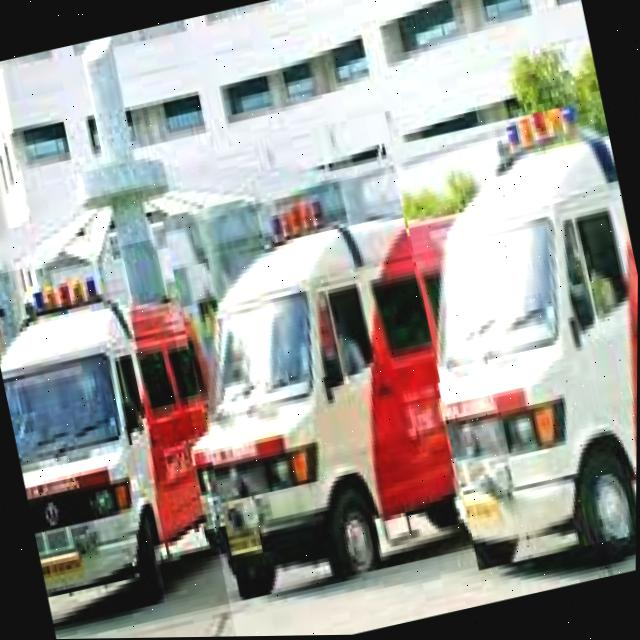Ambulance: (160, 165, 474, 602), (389, 99, 639, 571), (0, 237, 241, 640)
